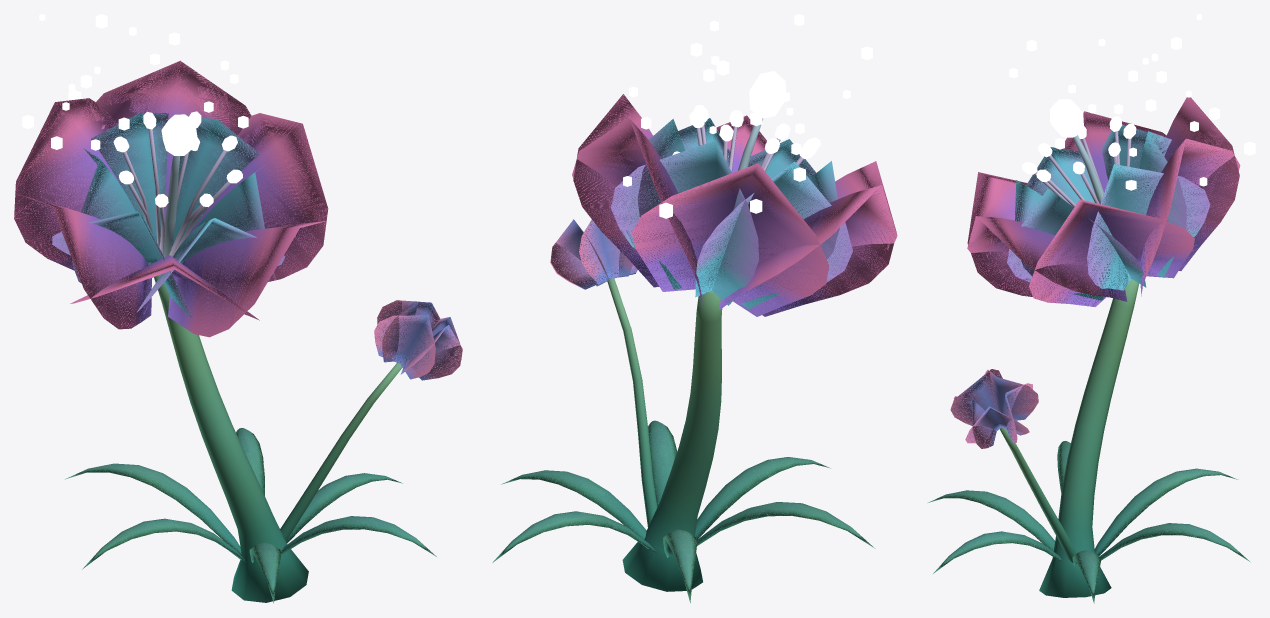
The model's file is verdant_flower_hero_heartbloom.glb.
3 renders of one model, left to right at view 1: azimuth 30°, elevation 25°; view 2: azimuth 150°, elevation 25°; view 3: azimuth 270°, elevation 25°, orthographic. The views are drawn at different scales.
Parts seen in each view (by area): view 1: verdant_flower_hero_heartbloom; view 2: verdant_flower_hero_heartbloom; view 3: verdant_flower_hero_heartbloom.
Part boxes in pixels (left/top/right/bottom): verdant_flower_hero_heartbloom: left=14, top=14, right=462, bottom=603; verdant_flower_hero_heartbloom: left=492, top=14, right=897, bottom=603; verdant_flower_hero_heartbloom: left=928, top=14, right=1255, bottom=603.
Bounding box in the file's own units: 4.31 × 6.49 × 3.79.
